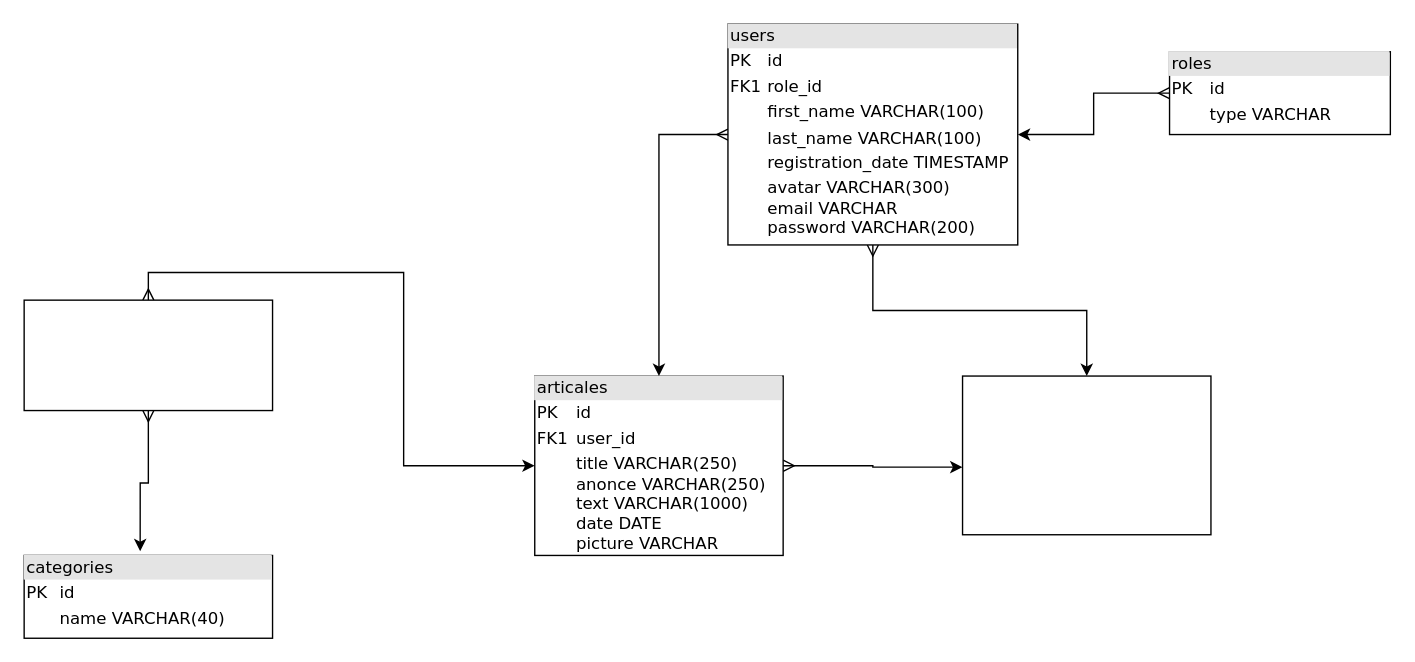
The diagram is 1415 pixels wide and 662 high, and some of its shapes have lost their labels. Here are the shapes that lost their labels. From the top down, the centre of each, then its label:
At (148,355): "article_category PK id FK article_id FK category_id".
At (1086,455): "comments PK id FK1 user_id FK2 article_id text VARCHAR(1000) date TIMESTAMP".
